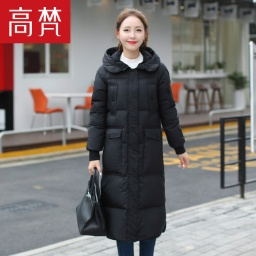face: (111, 8, 151, 55)
